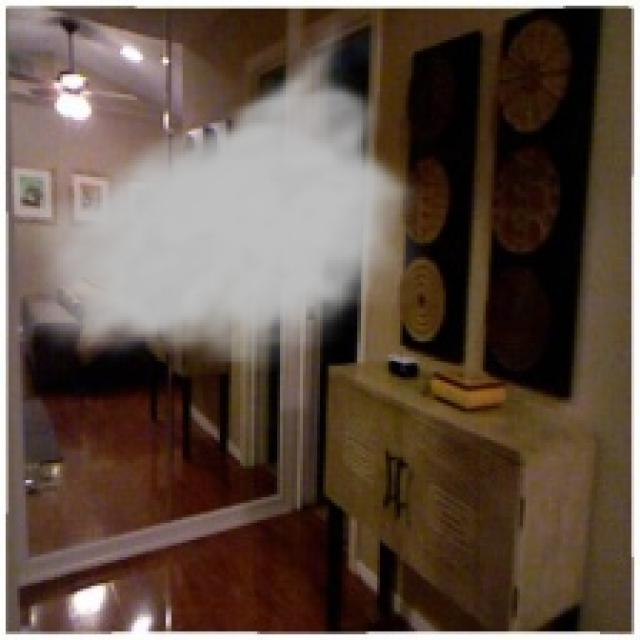smoke: (11, 14, 428, 372)
